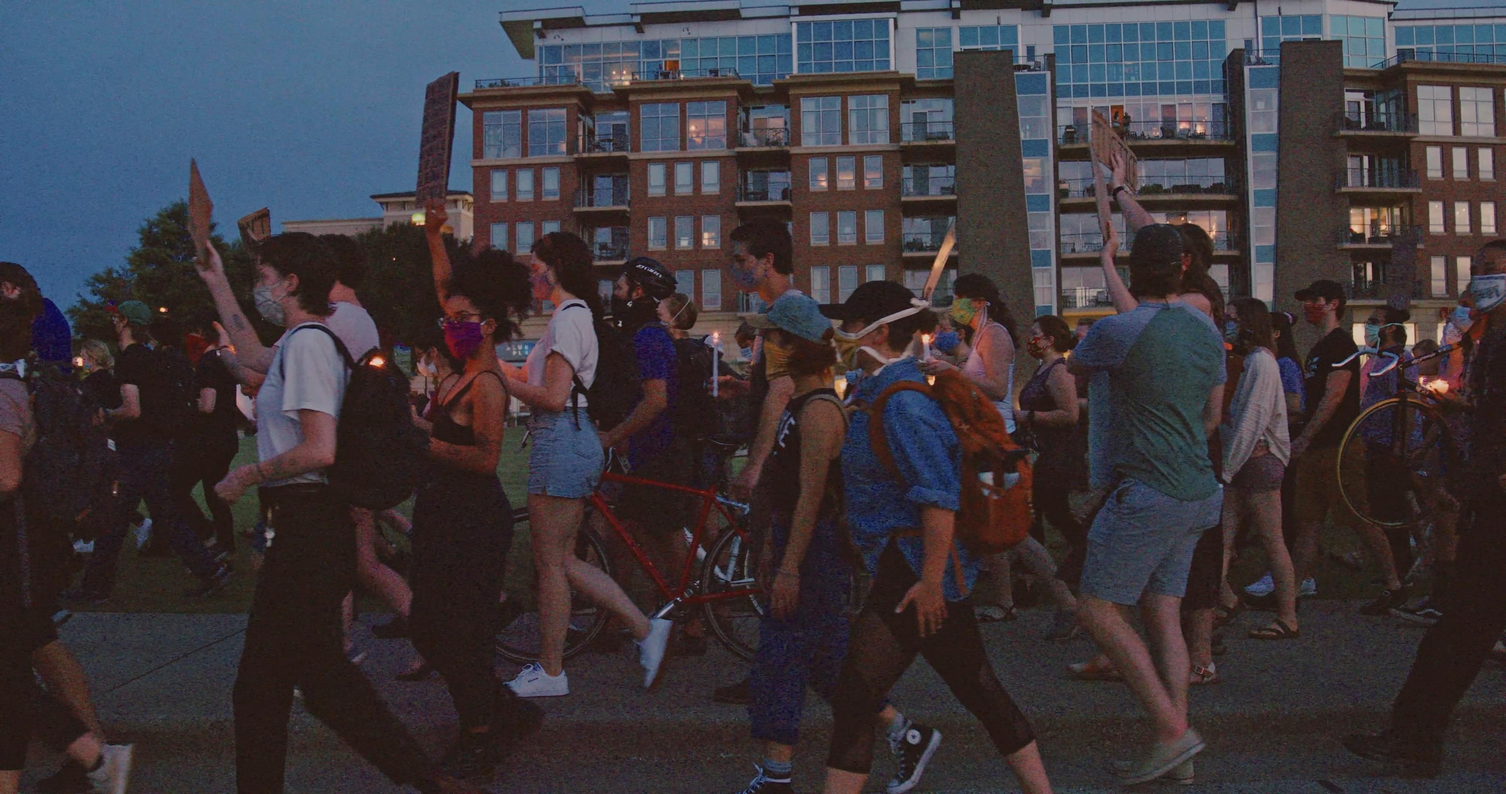helmet: (612, 256, 678, 322)
no-helmet: (818, 280, 937, 371), (439, 249, 534, 360), (745, 290, 837, 381), (254, 231, 341, 327), (729, 215, 795, 294), (530, 230, 598, 301), (1127, 223, 1187, 299), (948, 272, 1005, 326), (1224, 297, 1278, 352), (1470, 238, 1506, 316), (1294, 279, 1347, 327), (1027, 314, 1079, 359), (1364, 304, 1411, 349), (106, 299, 153, 343), (934, 306, 975, 356), (1268, 312, 1299, 357), (81, 338, 114, 373)
